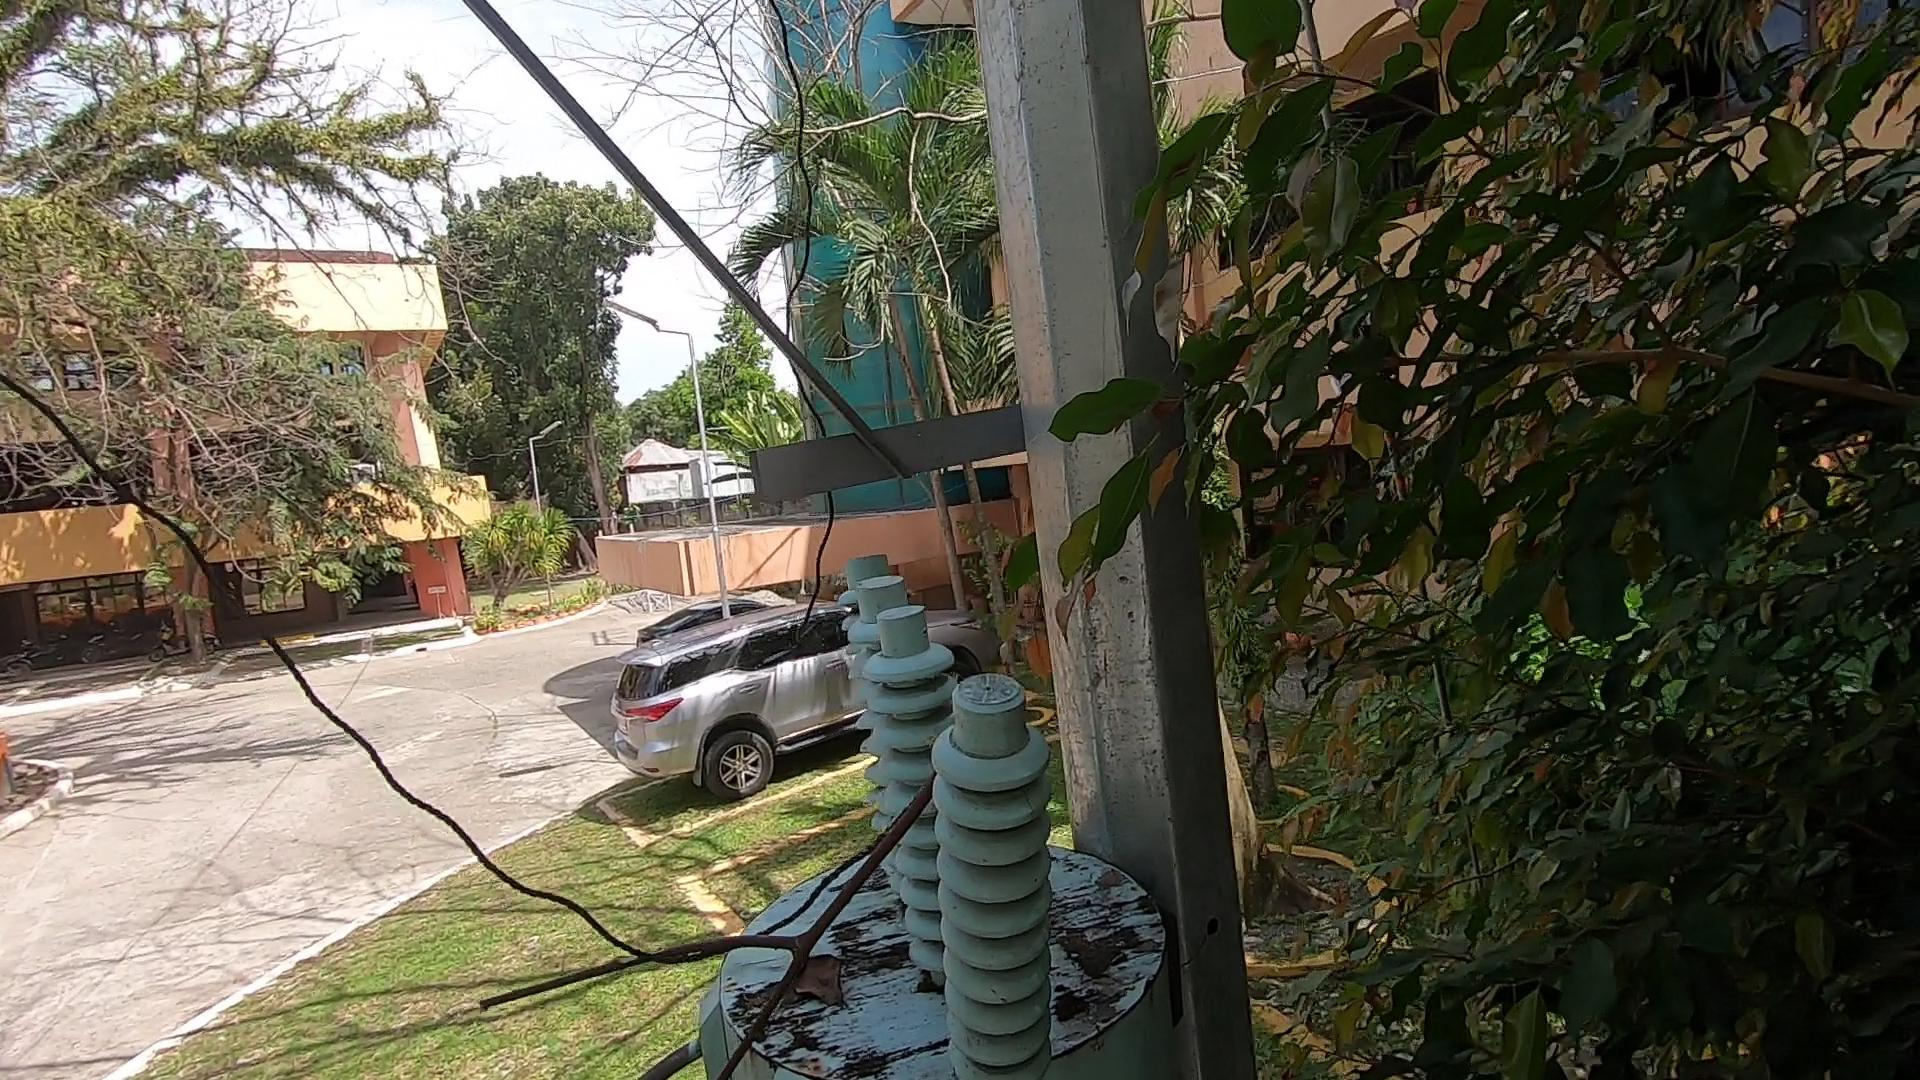leaf: (783, 939, 852, 1009)
tree branch: (467, 744, 989, 1080)
